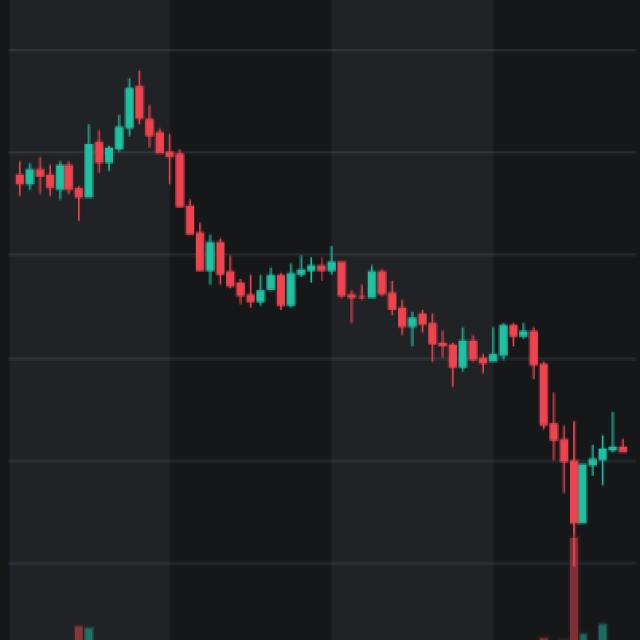Support-breakout: (51, 75, 361, 332), (442, 316, 586, 552)
